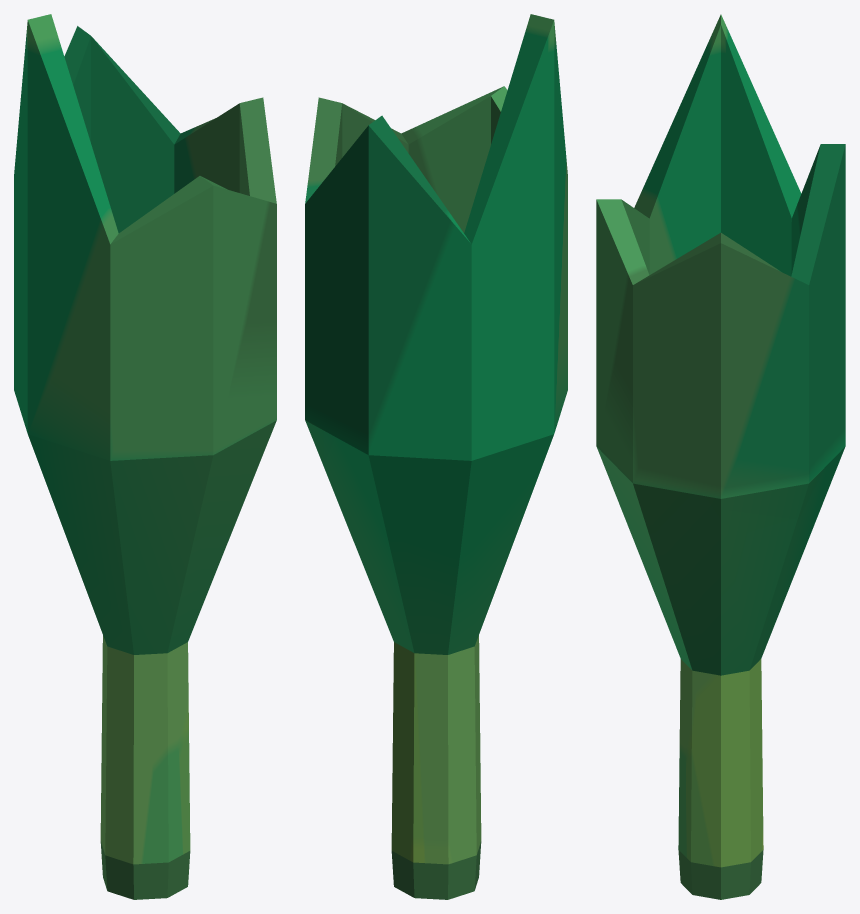
File: Broken Bottle.fbx
3 renders of one model, left to right at view 1: azimuth 30°, elevation 25°; view 2: azimuth 150°, elevation 25°; view 3: azimuth 270°, elevation 25°, orthographic. The views are drawn at different scales.
Parts seen in each view (by area): view 1: Broken Bottle; view 2: Broken Bottle; view 3: Broken Bottle.
Part boxes in pixels (box(x1,y1,x2,y2)): Broken Bottle: box(14, 14, 276, 899); Broken Bottle: box(305, 14, 567, 899); Broken Bottle: box(596, 14, 845, 899).
Size of the model in its own units: 10 by 36.15 by 10.
